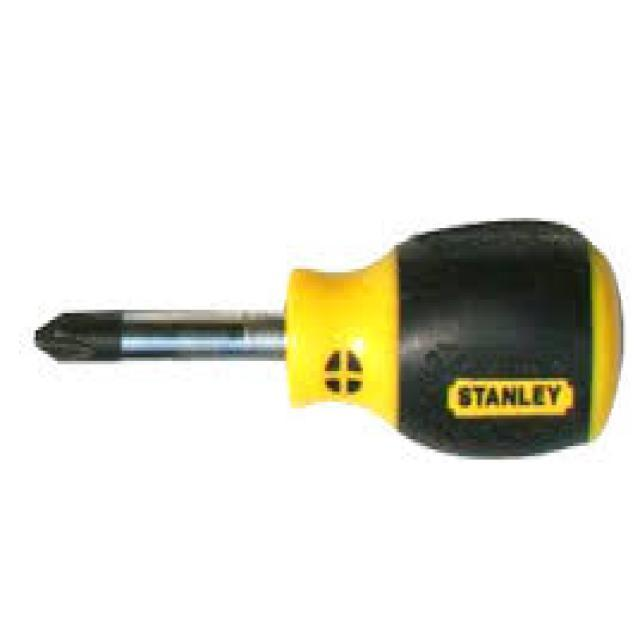screwdriver: (28, 218, 624, 459)
